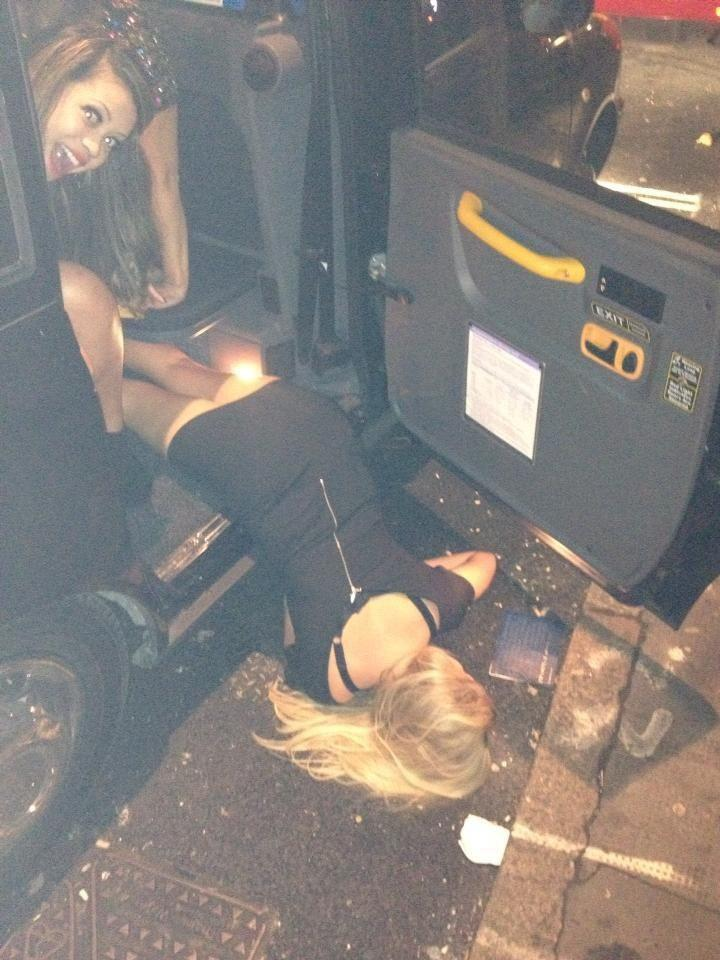Drunk: (51, 60, 134, 191)
